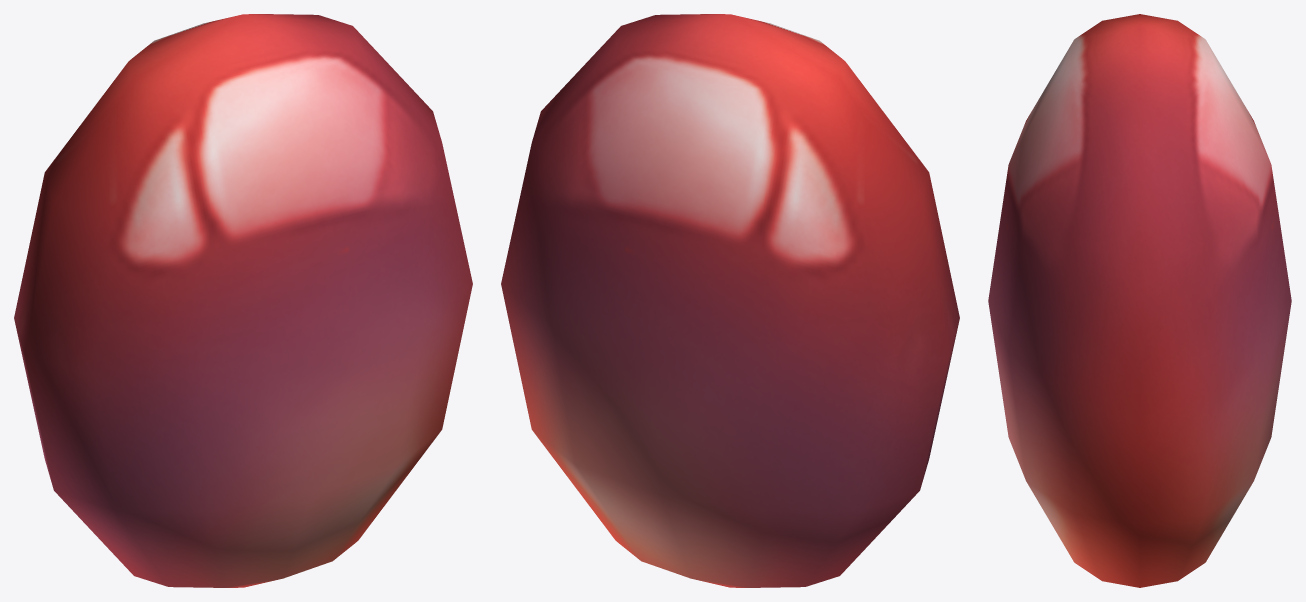
Rendered from scenes_common_jewel04.FBX.
3 renders of one model, left to right at view 1: azimuth 30°, elevation 25°; view 2: azimuth 150°, elevation 25°; view 3: azimuth 270°, elevation 25°, orthographic. The views are drawn at different scales.
Visible parts, largest first — view 1: scenes_common_jewel04; view 2: scenes_common_jewel04; view 3: scenes_common_jewel04.
Part boxes in pixels (<box>): scenes_common_jewel04: <box>14,14,472,587</box>; scenes_common_jewel04: <box>501,14,959,587</box>; scenes_common_jewel04: <box>988,14,1291,587</box>.
Bounding box in the file's own units: 87.27 × 109 × 55.09.
